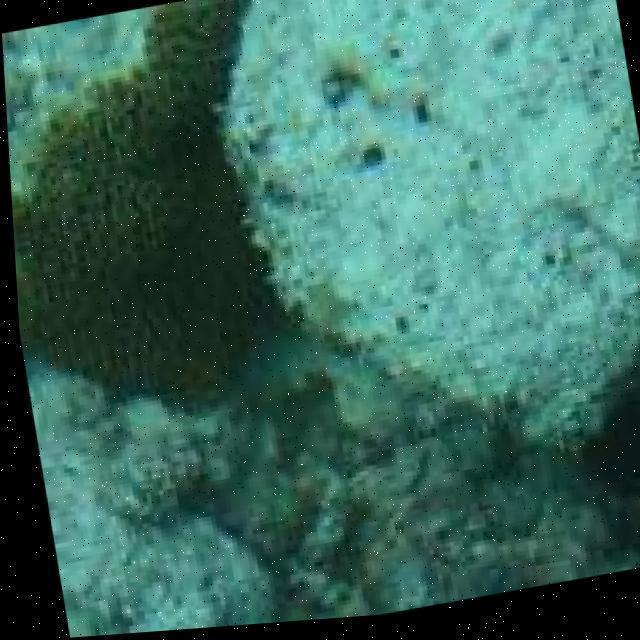Dead Coral: (0, 0, 266, 423)
